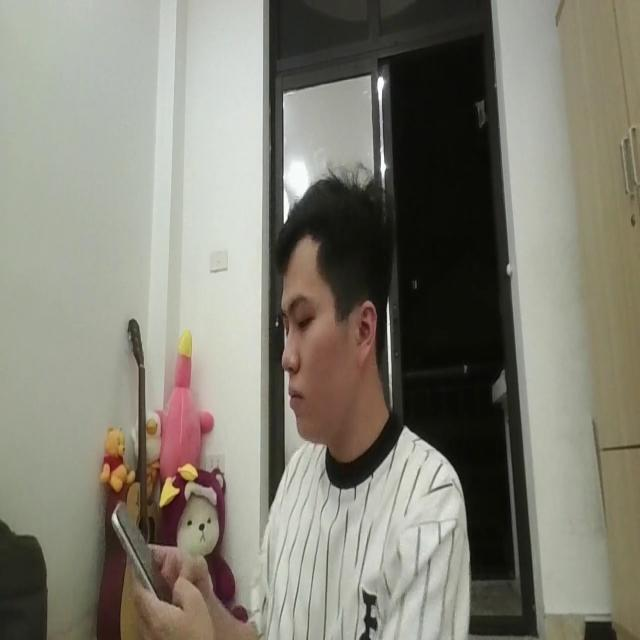phone: (110, 497, 165, 609)
student: (252, 153, 470, 640)
